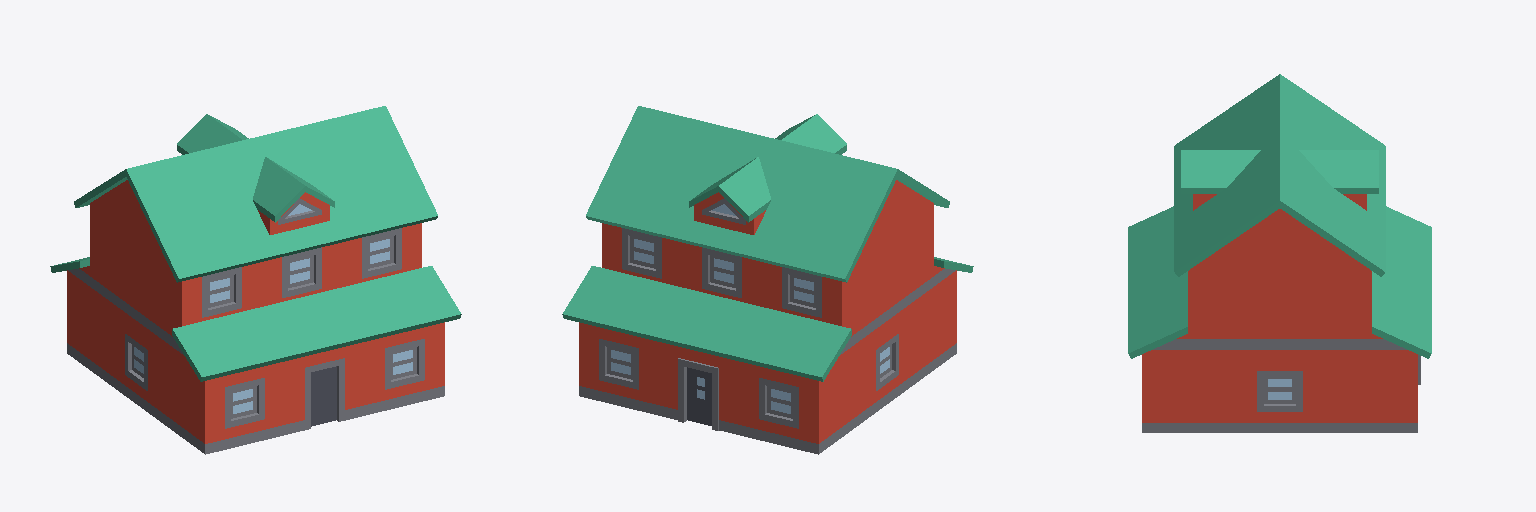
File: house_type06.obj
The picture shows the model from 3 angles: view 1: azimuth 30°, elevation 25°; view 2: azimuth 150°, elevation 25°; view 3: azimuth 270°, elevation 25°; orthographic projection.
Visible parts, largest first — view 1: house_type06; view 2: house_type06; view 3: house_type06.
Part boxes in pixels (bbox=[...]): house_type06: bbox=[50, 106, 461, 454]; house_type06: bbox=[562, 106, 973, 454]; house_type06: bbox=[1128, 74, 1431, 432].
Bounding box in the file's own units: 1.3 × 1.14 × 1.32.